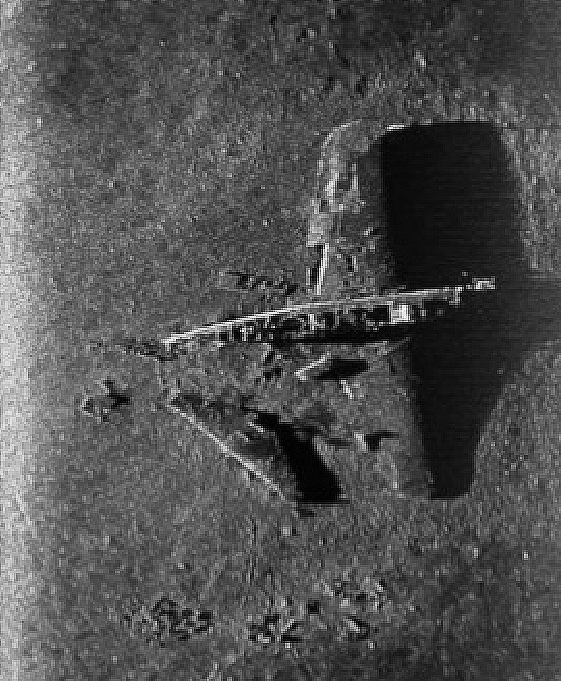plane: (162, 126, 491, 509)
